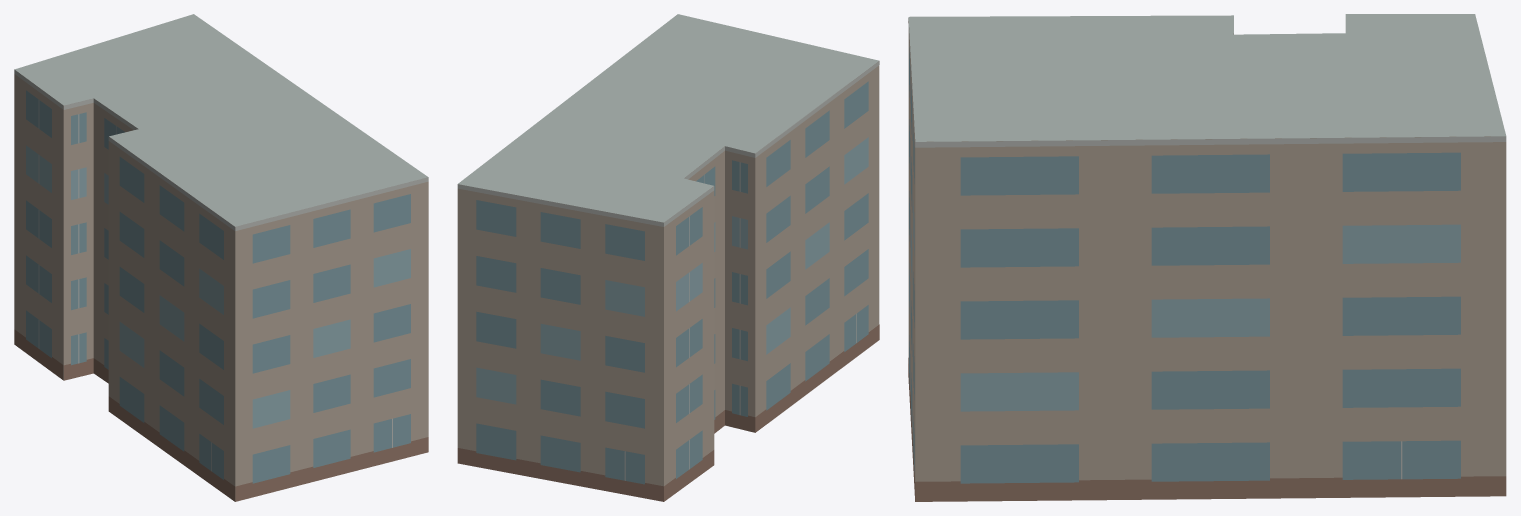
The model's file is survey-upis-33015237.glb.
3 views of the same model, side by side, from view 1: azimuth 30°, elevation 25°; view 2: azimuth 150°, elevation 25°; view 3: azimuth 270°, elevation 25° (orthographic). The views are drawn at different scales.
Visible parts, largest first — view 1: survey-upis-33015237.tmp; view 2: survey-upis-33015237.tmp; view 3: survey-upis-33015237.tmp.
Boxes of the visible parts, bbox=[...] form: survey-upis-33015237.tmp: bbox=[14, 14, 428, 501]; survey-upis-33015237.tmp: bbox=[457, 14, 879, 501]; survey-upis-33015237.tmp: bbox=[908, 14, 1506, 501].
Bounding box in the file's own units: 11.59 × 15.2 × 22.89.
